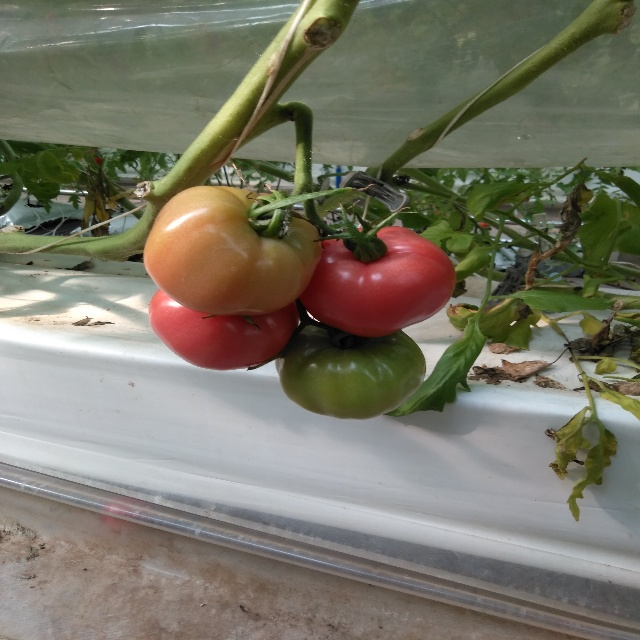b_fully_ripened: (300, 226, 457, 338), (148, 288, 303, 371)
b_green: (275, 321, 426, 420)
b_half_ripened: (143, 185, 322, 315)
